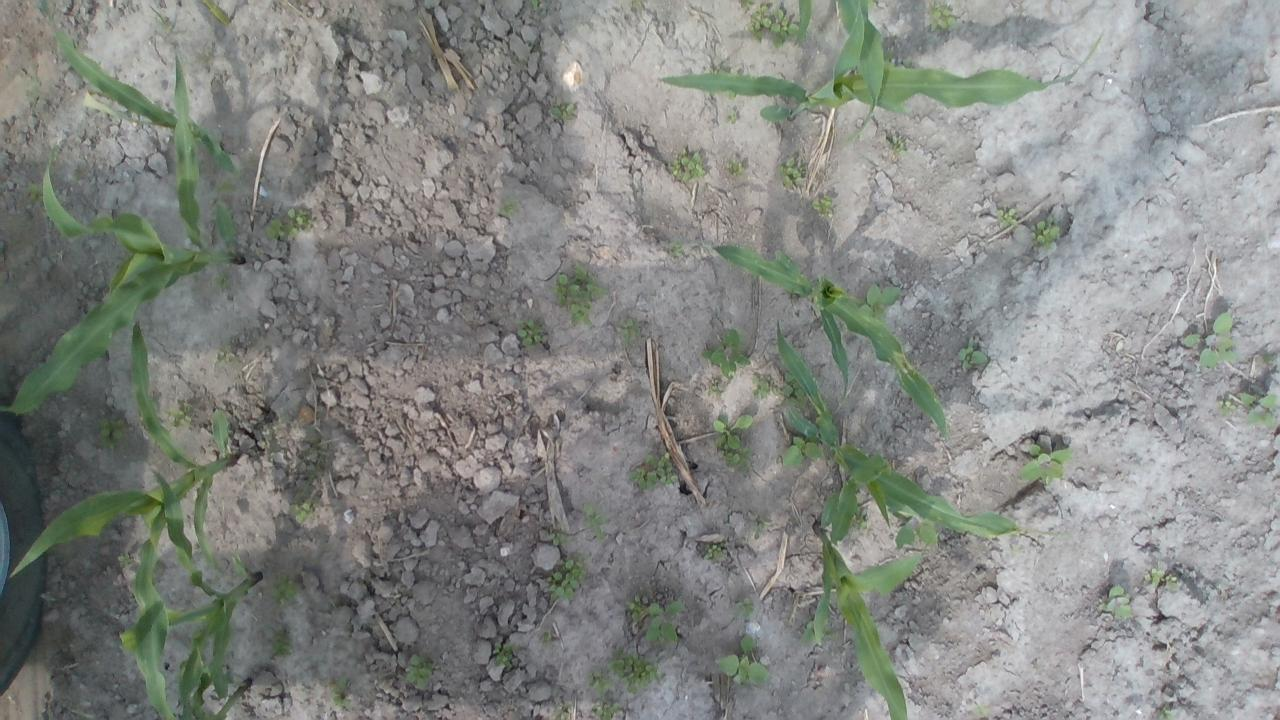Maize: (1, 51, 246, 416), (11, 315, 238, 578), (775, 319, 1018, 541), (658, 5, 1105, 124), (712, 241, 952, 436), (120, 467, 262, 720), (40, 0, 242, 172), (804, 519, 924, 720), (832, 0, 886, 148), (175, 660, 251, 720), (796, 0, 814, 47)
Weeds: (553, 264, 607, 326), (1182, 310, 1237, 369), (716, 634, 771, 685), (626, 596, 684, 642), (607, 644, 660, 694), (702, 330, 752, 379), (1019, 442, 1071, 486), (749, 5, 798, 48), (546, 554, 588, 601), (627, 452, 678, 490), (860, 283, 903, 324), (890, 518, 939, 552), (713, 414, 753, 450), (666, 148, 708, 182), (1240, 392, 1280, 426), (782, 437, 824, 466), (406, 654, 438, 690), (956, 336, 988, 372), (1098, 585, 1132, 618), (580, 504, 608, 541), (777, 156, 807, 188), (1032, 215, 1060, 249), (1144, 566, 1180, 592), (100, 414, 126, 448), (781, 372, 806, 407), (927, 1, 957, 30), (270, 576, 298, 606), (517, 318, 545, 348), (752, 369, 778, 398), (288, 208, 314, 237), (724, 447, 753, 472), (327, 678, 351, 708), (803, 620, 833, 644), (748, 511, 772, 540), (492, 641, 516, 668), (164, 403, 192, 426), (272, 628, 294, 657), (588, 668, 610, 697), (548, 100, 576, 122), (594, 699, 623, 720), (884, 132, 908, 156), (618, 318, 642, 342), (289, 501, 316, 522), (812, 195, 835, 218), (267, 217, 291, 239), (548, 523, 568, 547), (725, 155, 746, 177), (213, 346, 234, 368), (214, 178, 240, 195), (500, 197, 520, 219), (736, 598, 757, 618), (998, 206, 1016, 228), (851, 511, 869, 533), (706, 376, 723, 399), (704, 543, 724, 562), (213, 270, 231, 290), (554, 700, 572, 720), (972, 703, 990, 719), (27, 181, 43, 199), (1218, 400, 1236, 416), (1158, 707, 1178, 720), (710, 90, 736, 100), (668, 242, 684, 258), (117, 552, 133, 568), (1259, 353, 1278, 365), (726, 107, 739, 123), (540, 631, 552, 646), (902, 58, 914, 68), (884, 50, 893, 61), (742, 0, 752, 9), (634, 0, 642, 8), (707, 68, 717, 74), (531, 0, 538, 8)
